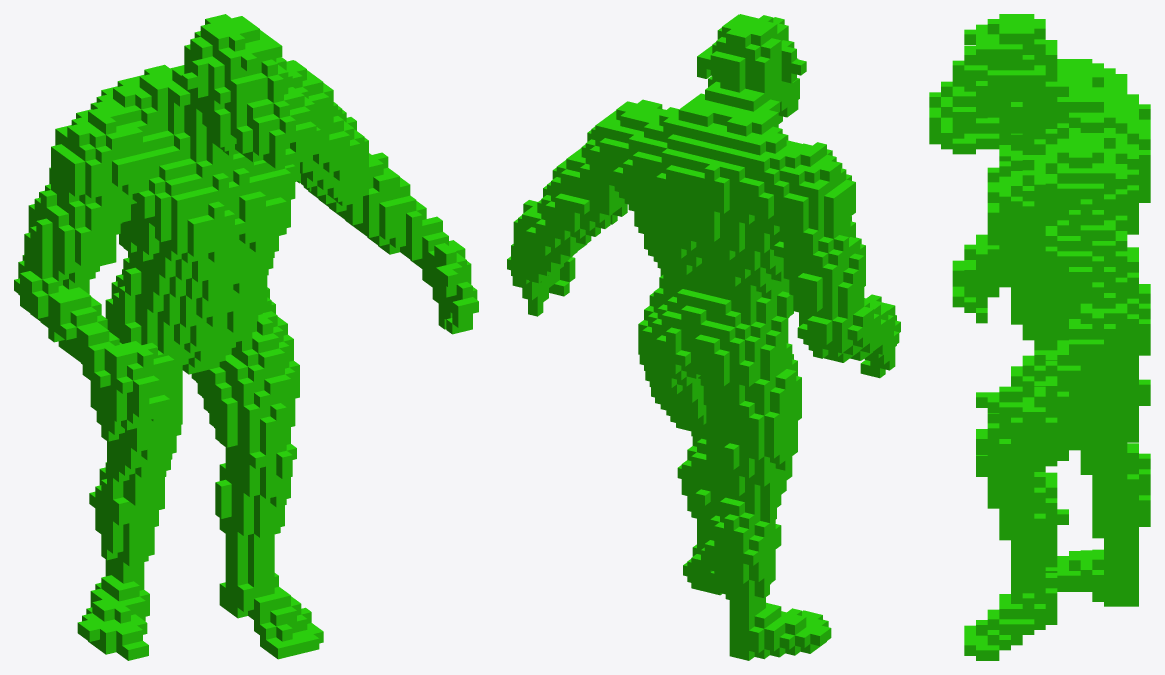
The model's file is Ogro.fbx.
The picture shows the model from 3 angles, left to right: view 1: azimuth 30°, elevation 25°; view 2: azimuth 150°, elevation 25°; view 3: azimuth 270°, elevation 25°; orthographic projection. The views are drawn at different scales.
Parts seen in each view (by area): view 1: dude; view 2: dude; view 3: dude.
Part boxes in pixels (x1,y1,x2,y2): dude: (14,14,478,660); dude: (507,14,900,660); dude: (929,14,1150,660).
Size of the model in its own units: 2 by 2.93 by 0.9768.
